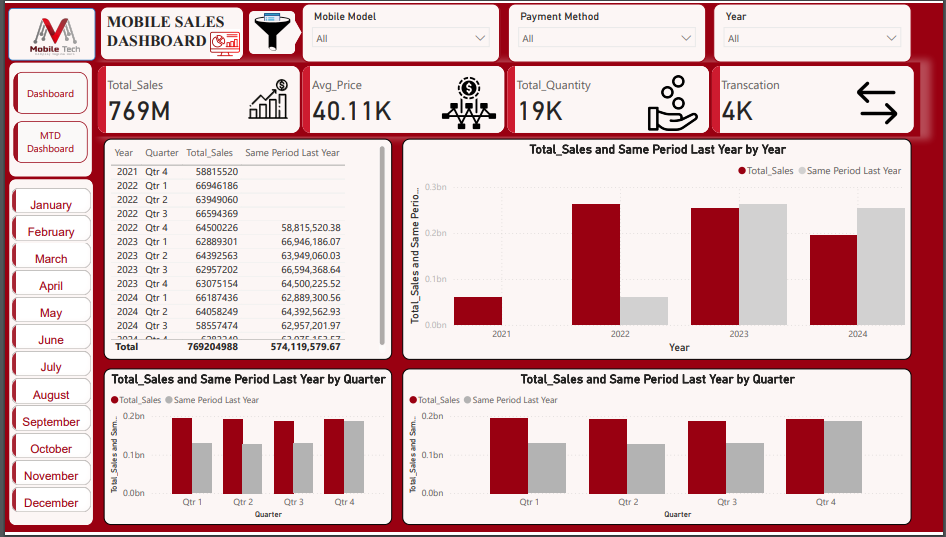

The dashboard page shown, as its layout file describes it:
{"tool":"powerbi","page":{"name":"Same Period Last Year ","canvas":[1280,720],"ordinal":2},"visuals":[{"type":"shape","box":[5.7,5.7,118.6,71.4],"z":0},{"type":"shape","box":[7.1,80,112.9,155.7],"z":1000},{"type":"cardVisual","fields":{"Data":["Sales_Data.Total_Sales","Sales_Data.Avg_Price","Sales_Data.Total_Quantity","Sales_Data.Transcation"]},"box":[122.9,80,1125.7,101.4],"z":2000},{"type":"image","box":[0,0,135.7,91.4],"z":3000},{"type":"slicer","fields":{"Values":["Sales_Data.Mobile Model"]},"box":[407.1,0,270,80],"z":4000},{"type":"slicer","fields":{"Values":["Sales_Data.Payment Method"]},"box":[687.1,0,270,80],"z":5000},{"type":"slicer","fields":{"Values":["Custom_Calender.Date.Variation.Date Hierarchy.Year"]},"box":[967.1,0,270,80],"z":6000},{"type":"slicer","fields":{"Values":["Sales_Data.Mobile Model"]},"box":[405.7,0,270,80],"z":7000},{"type":"shape","box":[334.3,10,62.9,58.6],"z":8000},{"type":"shape","box":[372.6,10,32.6,58.4],"z":9000},{"type":"image","box":[327.4,5.8,78.4,65.8],"z":10000},{"type":"textbox","box":[131.4,4.3,195.7,72.9],"z":11000},{"type":"image","box":[272.9,30,55.7,50],"z":12000},{"type":"shape","box":[7.1,238.6,114.3,471.4],"z":13000},{"type":"advancedSlicerVisual","fields":{"Values":["Custom_Calender.Date.Variation.Date Hierarchy.Month"]},"box":[5.7,247.1,117.1,451.4],"z":14000},{"type":"tableEx","fields":{"Values":["Custom_Calender.Date.Variation.Date Hierarchy.Year","Custom_Calender.Date.Variation.Date Hierarchy.Quarter","Sales_Data.Total_Sales","Sales_Data.Same Period Last Year"]},"box":[135.7,184.3,392.9,301.4],"z":15000},{"type":"clusteredColumnChart","fields":{"Category":["Custom_Calender.Date.Variation.Date Hierarchy.Year","Custom_Calender.Date.Variation.Date Hierarchy.Quarter"],"Y":["Sales_Data.Total_Sales","Sales_Data.Same Period Last Year"]},"box":[542.9,184.3,694.3,301.4],"z":16000},{"type":"clusteredColumnChart","fields":{"Category":["Custom_Calender.Date.Variation.Date Hierarchy.Year","Custom_Calender.Date.Variation.Date Hierarchy.Quarter"],"Y":["Sales_Data.Total_Sales","Sales_Data.Same Period Last Year"]},"box":[542.9,497.1,694.3,212.9],"z":17000},{"type":"clusteredColumnChart","fields":{"Y":["Sales_Data.Total_Sales","Sales_Data.Same Period Last Year"],"Category":["Custom_Calender.Date.Variation.Date Hierarchy.Year","Custom_Calender.Date.Variation.Date Hierarchy.Quarter","Custom_Calender.Date.Variation.Date Hierarchy.Month","Custom_Calender.Date.Variation.Date Hierarchy.Day"]},"box":[135.7,497.1,392.9,212.9],"z":18000},{"type":"pageNavigator","box":[12.9,92.9,101.4,125.7],"z":18001}]}

Visuals, with their boxes in screenshot pixels (x1, y1, x2, y2), scaled from the page's 1280x720 canvas onto the 946x537 screenshot:
shape: BBox(4, 4, 92, 58)
shape: BBox(5, 60, 89, 176)
cardVisual - Sales_Data.Total_Sales x Sales_Data.Avg_Price: BBox(91, 60, 923, 135)
image: BBox(0, 0, 100, 68)
slicer - Sales_Data.Mobile Model: BBox(301, 0, 500, 60)
slicer - Sales_Data.Payment Method: BBox(508, 0, 707, 60)
slicer - Custom_Calender.Date.Variation.Date Hierarchy.Year: BBox(715, 0, 914, 60)
slicer - Sales_Data.Mobile Model: BBox(300, 0, 499, 60)
shape: BBox(247, 7, 294, 51)
shape: BBox(275, 7, 299, 51)
image: BBox(242, 4, 300, 53)
textbox: BBox(97, 3, 242, 58)
image: BBox(202, 22, 243, 60)
shape: BBox(5, 178, 90, 530)
advancedSlicerVisual - Custom_Calender.Date.Variation.Date Hierarchy.Month: BBox(4, 184, 91, 521)
tableEx - Custom_Calender.Date.Variation.Date Hierarchy.Year x Custom_Calender.Date.Variation.Date Hierarchy.Quarter: BBox(100, 137, 391, 362)
clusteredColumnChart - Custom_Calender.Date.Variation.Date Hierarchy.Year x Custom_Calender.Date.Variation.Date Hierarchy.Quarter: BBox(401, 137, 914, 362)
clusteredColumnChart - Custom_Calender.Date.Variation.Date Hierarchy.Year x Custom_Calender.Date.Variation.Date Hierarchy.Quarter: BBox(401, 371, 914, 530)
clusteredColumnChart - Sales_Data.Total_Sales x Sales_Data.Same Period Last Year: BBox(100, 371, 391, 530)
pageNavigator: BBox(10, 69, 84, 163)
